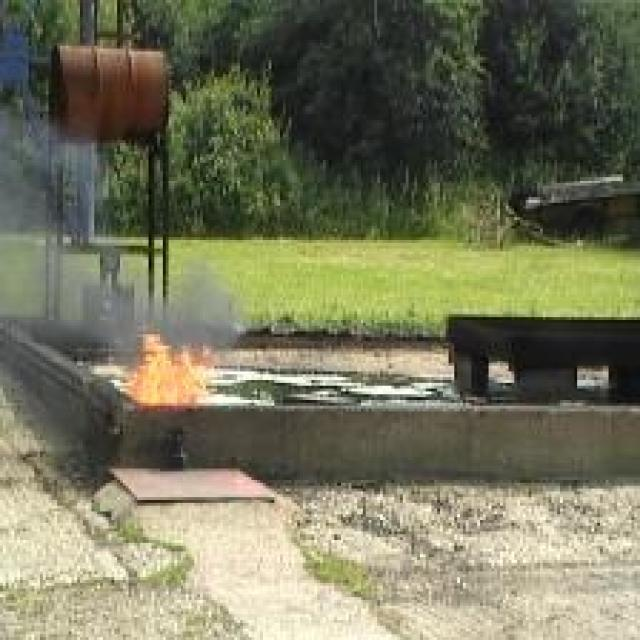Fire: (122, 332, 218, 404)
